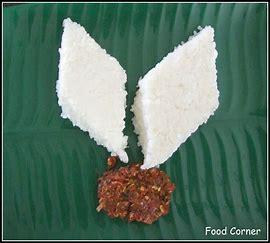Kiribath: (50, 10, 228, 169)
Lunu sambol: (94, 160, 179, 226)
